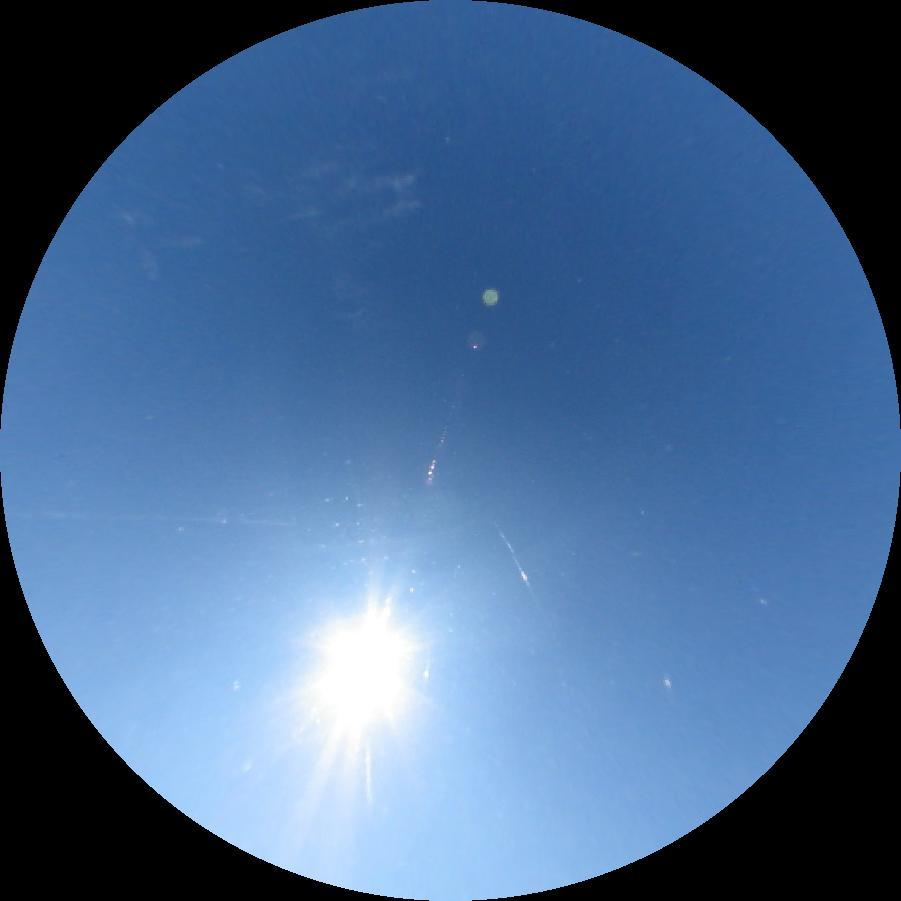parasite: (492, 519, 541, 602)
sun: (308, 610, 411, 733)
